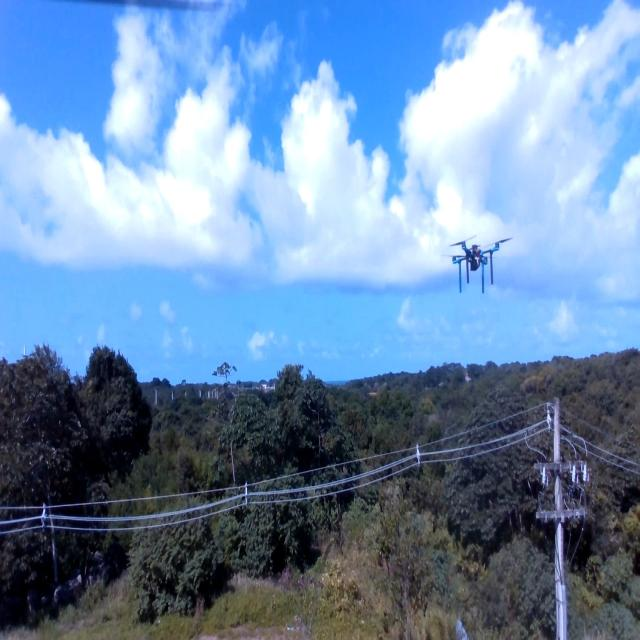-uav-: (444, 227, 516, 302)
